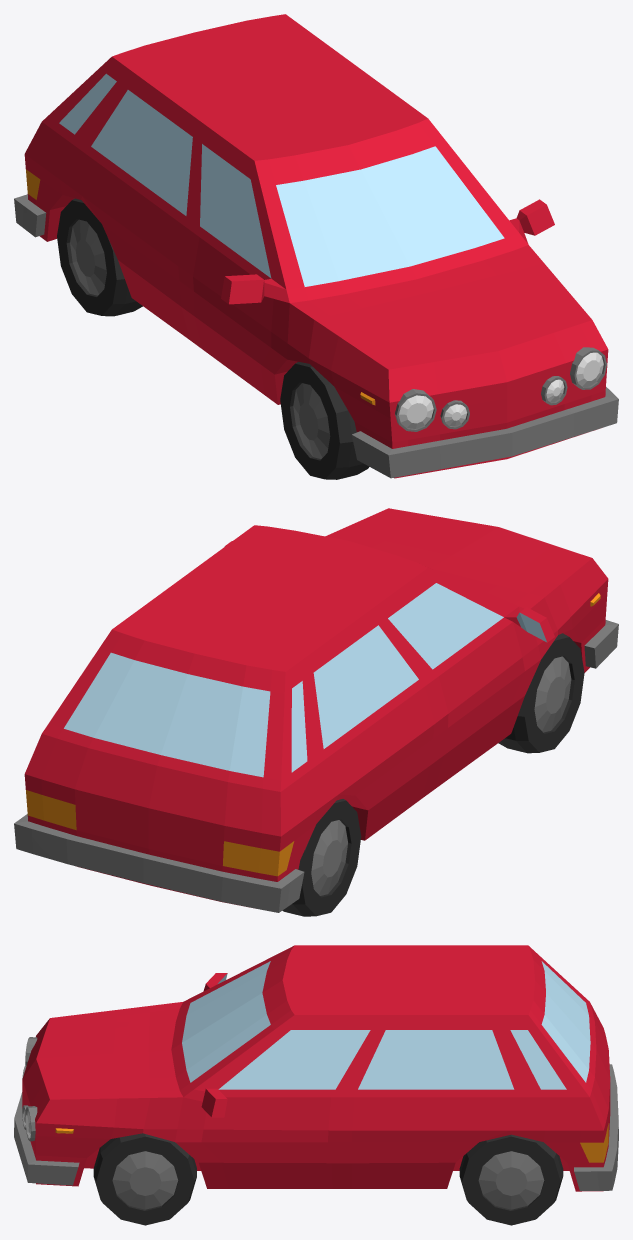
File: car_red.glb
The picture shows the model from 3 angles, top to bottom: view 1: azimuth 30°, elevation 25°; view 2: azimuth 150°, elevation 25°; view 3: azimuth 270°, elevation 25°; orthographic projection. The views are drawn at different scales.
Visible parts, largest first — view 1: 1377 Car; view 2: 1377 Car; view 3: 1377 Car.
Boxes of the visible parts, <box> form: 1377 Car: <box>14,14,618,479</box>; 1377 Car: <box>14,508,618,916</box>; 1377 Car: <box>14,945,618,1225</box>.
Bounding box in the file's own units: 45.5 × 32.33 × 89.11.
1 material, 1 textured.
